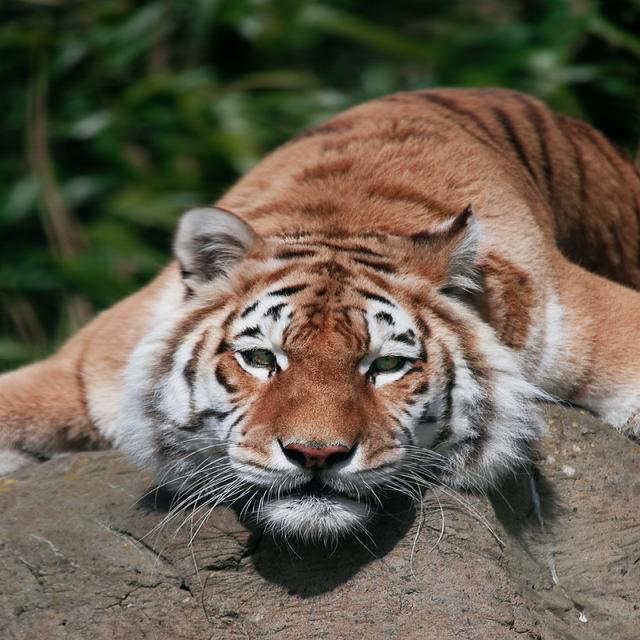Tiger: (14, 86, 639, 544)
